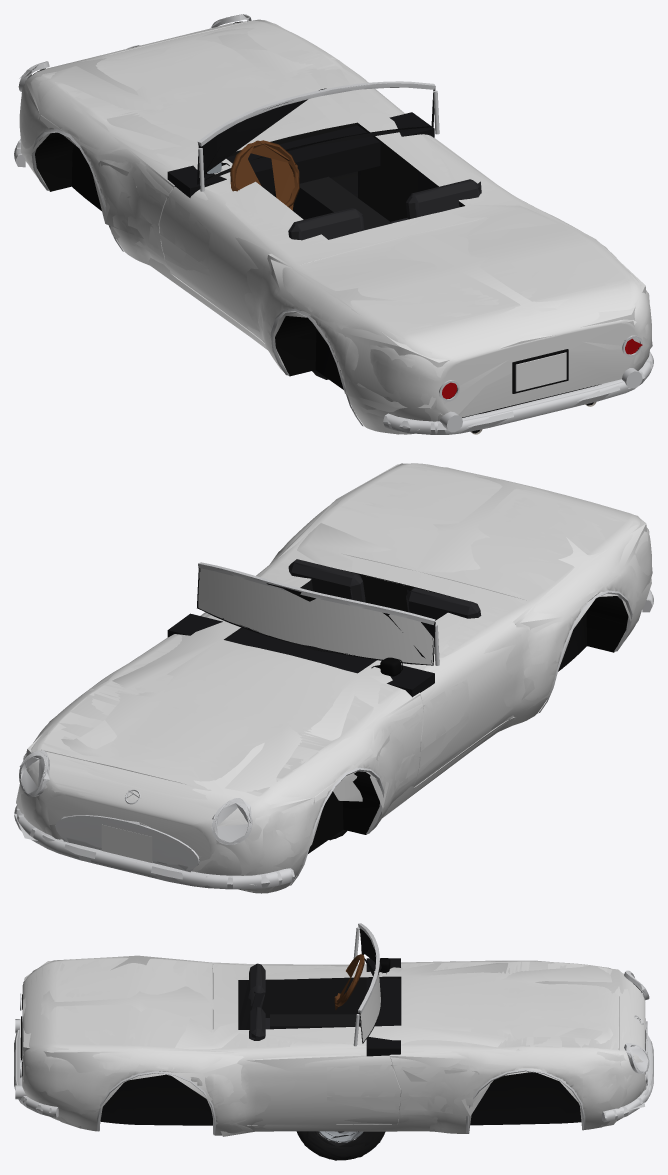
File: comet.glb
3 renders of one model, top to bottom at view 1: azimuth 30°, elevation 25°; view 2: azimuth 150°, elevation 25°; view 3: azimuth 270°, elevation 25°, orthographic. The views are drawn at different scales.
Parts seen in each view (by area): view 1: H_paint, L0_paint, L1_paint, L0_details, L2_paint, H_details, L1_paint__dl, L1_details, L0_paint__dl, H_paint2, L0_paint2__dl, H_paint__dl (+5 smaller); view 2: H_paint, L0_paint, L1_paint, L2_paint, H_details, L0_details, H_glass, L1_paint__dl, L1_details, L0_paint__dl, H_paint2, L0_paint2__dl (+3 smaller); view 3: H_paint, L0_paint, L0_details, L2_paint, L1_paint, H_details, L1_paint__dr, L0_paint__dr, H_paint2, L0_paint2__dr, H_paint__dr, H_paint2__dr (+8 smaller).
Part boxes in pixels (x1,y1,x2,y2): H_paint: [19, 20, 651, 434]; L0_paint: [19, 21, 651, 434]; L1_paint: [21, 19, 649, 434]; L0_details: [14, 15, 653, 434]; L2_paint: [20, 20, 652, 415]; H_details: [14, 14, 653, 434]; L1_paint__dl: [164, 189, 314, 342]; L1_details: [19, 14, 639, 429]; L0_paint__dl: [164, 187, 312, 340]; H_paint2: [98, 161, 167, 251]; L0_paint2__dl: [159, 197, 209, 275]; H_paint__dl: [164, 186, 300, 340]; H_paint: [20, 463, 651, 893]; L0_paint: [20, 463, 651, 893]; L1_paint: [20, 463, 652, 893]; L2_paint: [16, 464, 651, 875]; H_details: [14, 559, 653, 890]; L0_details: [14, 559, 653, 889]; H_glass: [198, 568, 433, 664]; L1_paint__dl: [413, 619, 515, 787]; L1_details: [14, 568, 591, 885]; L0_paint__dl: [415, 610, 523, 782]; H_paint2: [333, 707, 423, 801]; L0_paint2__dl: [420, 681, 468, 766]; H_paint: [22, 957, 645, 1135]; L0_paint: [22, 957, 645, 1133]; L0_details: [14, 923, 653, 1134]; L2_paint: [23, 955, 646, 1136]; L1_paint: [22, 957, 645, 1133]; H_details: [14, 924, 653, 1135]; L1_paint__dr: [247, 1034, 399, 1124]; L0_paint__dr: [246, 1035, 398, 1125]; H_paint2: [392, 1065, 493, 1114]; L0_paint2__dr: [327, 1064, 400, 1109]; H_paint__dr: [246, 1035, 398, 1123]; H_paint2__dr: [327, 1064, 400, 1109].
Size of the model in its own units: 1.79 by 1.53 by 4.49.
